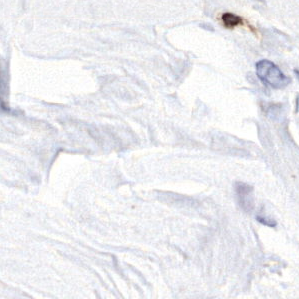Lymphocyte: (221, 10, 245, 29)
